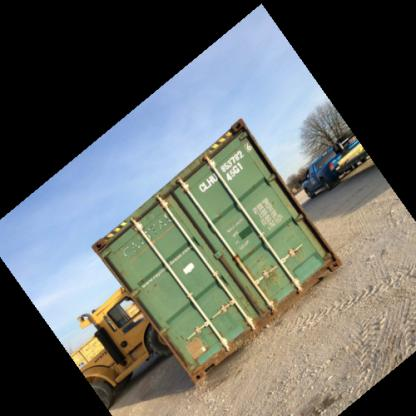Damage: (251, 254, 283, 294), (146, 212, 174, 235), (135, 278, 165, 294), (122, 235, 145, 255), (204, 325, 226, 343), (168, 327, 188, 346), (229, 116, 242, 137)
